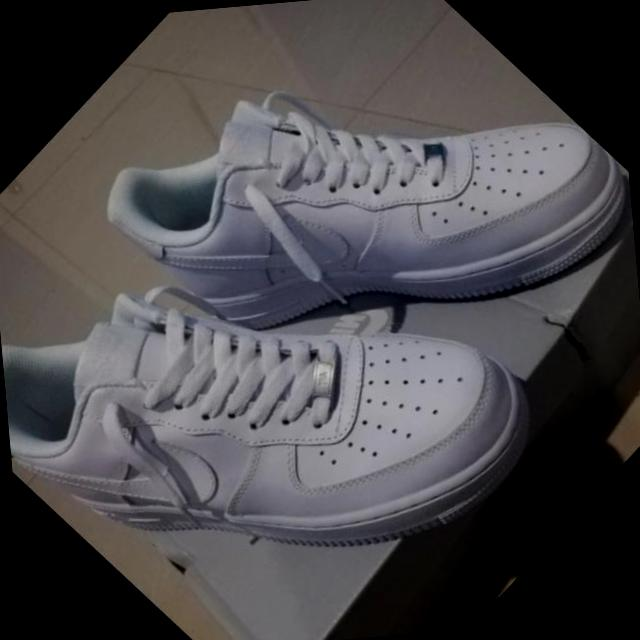nike_original_airforce: (0, 73, 581, 640), (73, 0, 640, 502)
